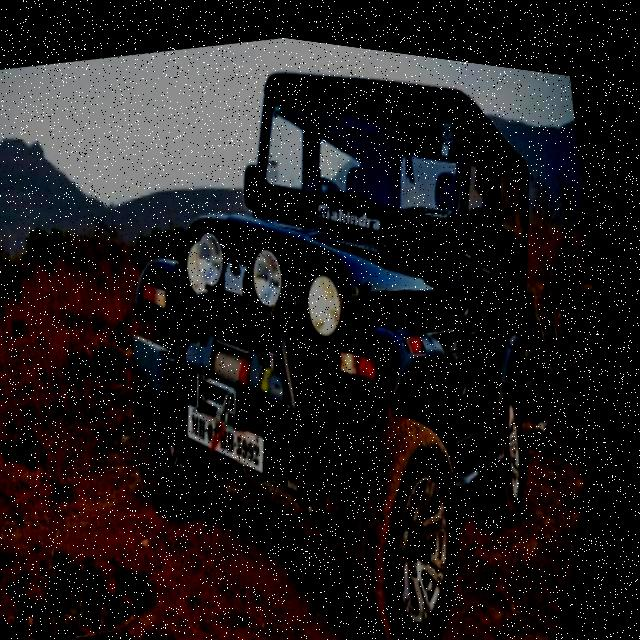license_plate: (186, 368, 294, 484)
